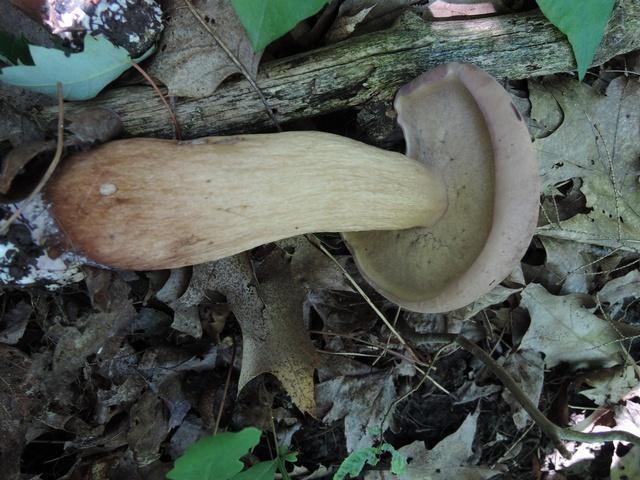Non-edible Mushroom: (42, 59, 542, 335)
